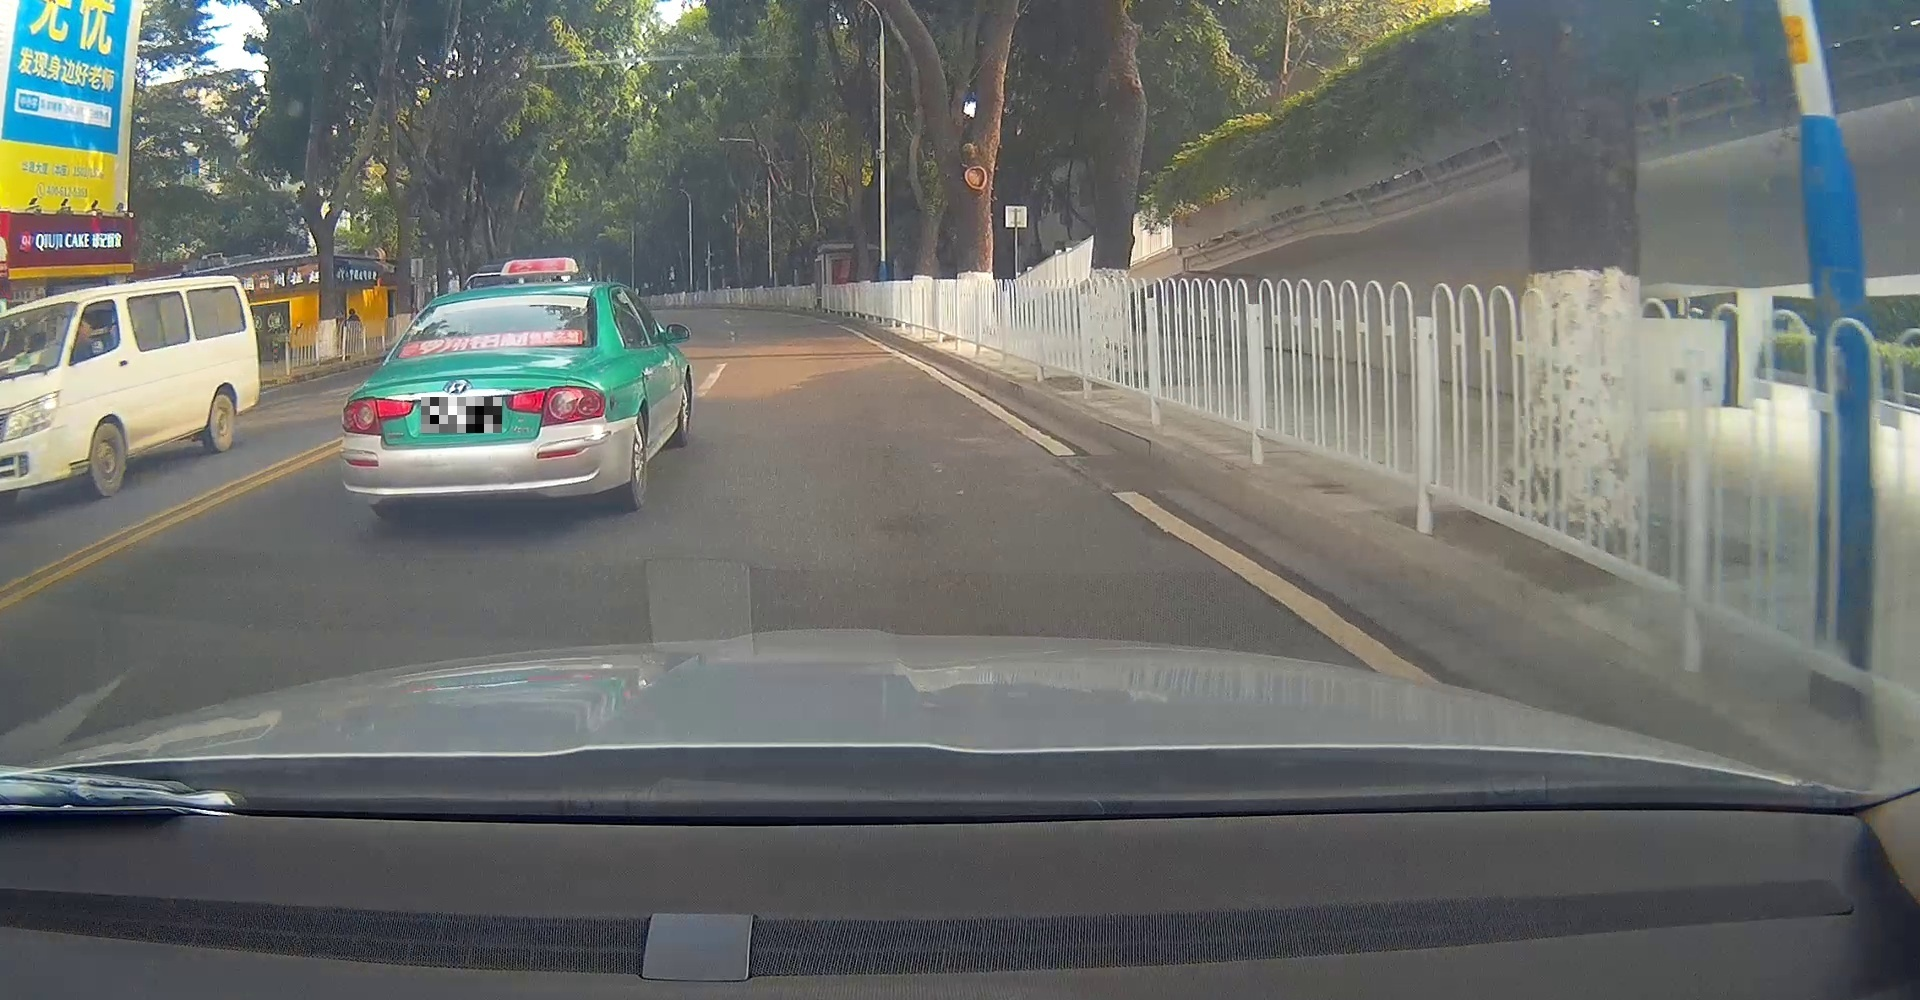L_light: (342, 396, 417, 437)
R_light: (505, 386, 607, 426)
T_light: (466, 343, 513, 352)
day-no: (338, 280, 611, 522)
plate_1: (422, 397, 502, 433)
